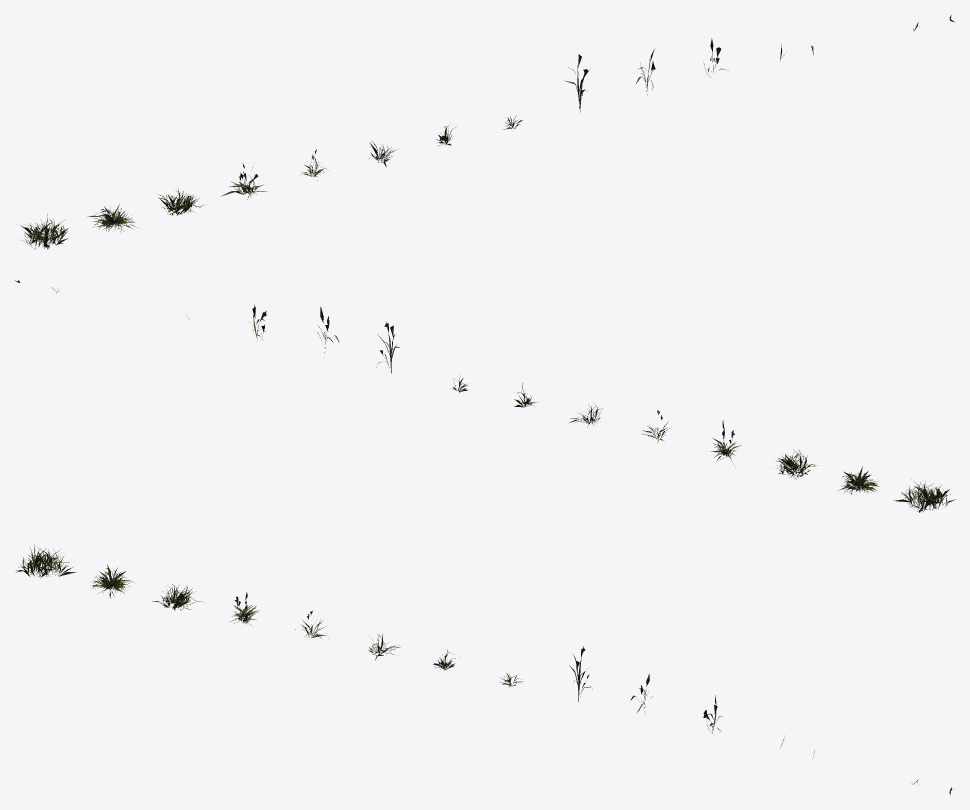
File: grass_medium_01.glb
The picture shows the model from 3 angles, top to bottom: view 1: azimuth 30°, elevation 25°; view 2: azimuth 150°, elevation 25°; view 3: azimuth 330°, elevation 25°; orthographic projection.
Parts seen in each view (by area): view 1: grass_medium_01_small_a_LOD0; view 2: grass_medium_01_small_a_LOD0; view 3: grass_medium_01_small_a_LOD0.
Boxes of the visible parts, box(x1,y1,x2,y2) form: grass_medium_01_small_a_LOD0: box(21, 15, 954, 249); grass_medium_01_small_a_LOD0: box(15, 280, 955, 512); grass_medium_01_small_a_LOD0: box(16, 544, 952, 794).
Bounding box in the file's own units: 5.59 × 0.3387 × 0.3264.
1 material, 1 textured.
